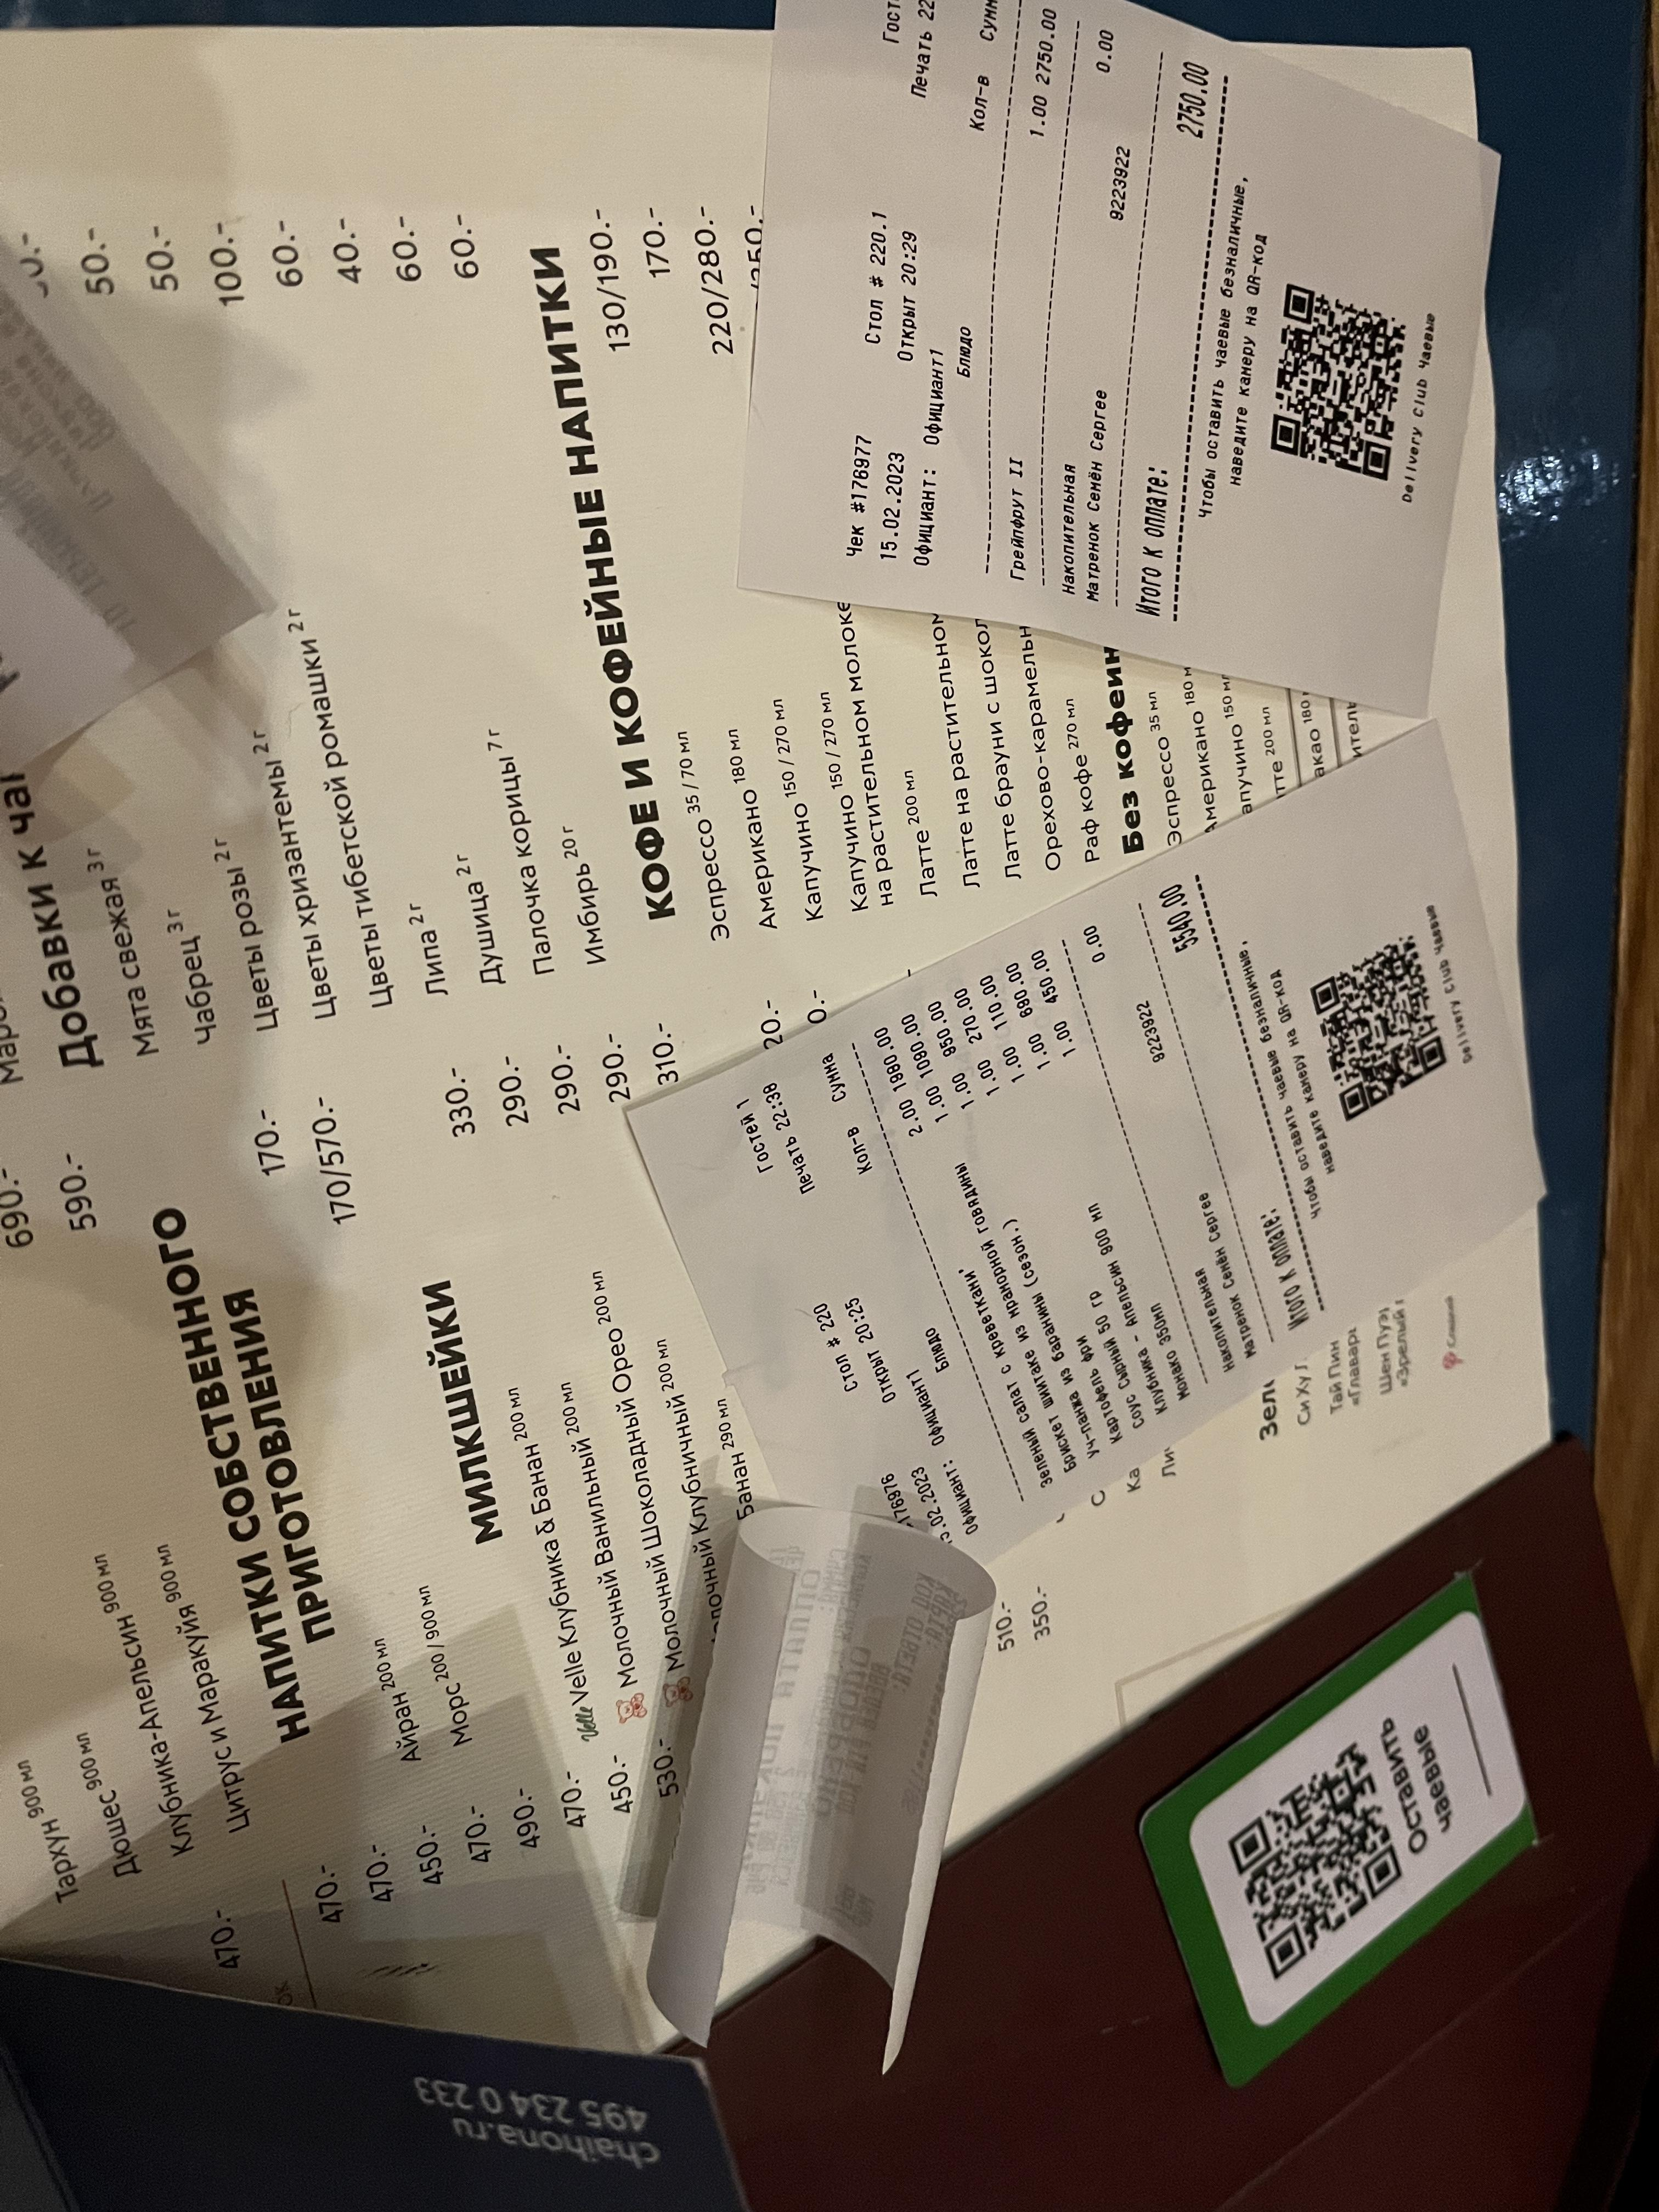qrcode: (1227, 1742, 1403, 1984), (1270, 280, 1408, 482), (1312, 930, 1448, 1129)
